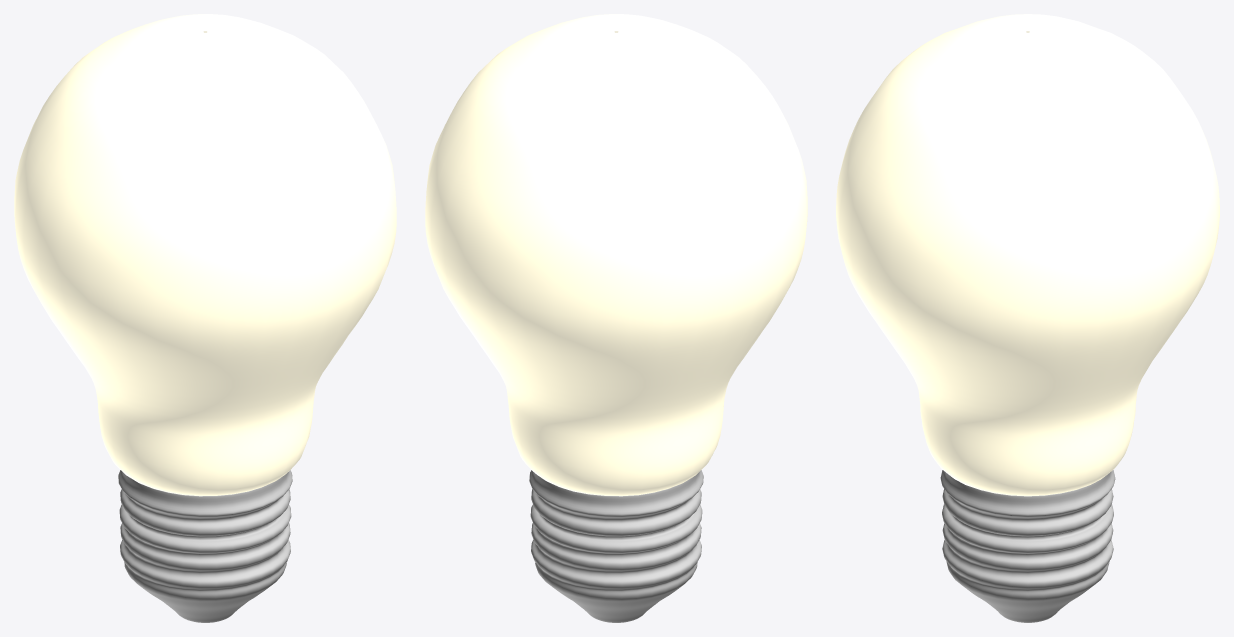
Rendered from light-transformed.glb.
3 renders of one model, left to right at view 1: azimuth 30°, elevation 25°; view 2: azimuth 150°, elevation 25°; view 3: azimuth 270°, elevation 25°, orthographic.
Visible parts, largest first — view 1: revolvedSurface9, revolvedSurface10; view 2: revolvedSurface9, revolvedSurface10; view 3: revolvedSurface9, revolvedSurface10.
Part boxes in pixels (bbox=[...]): revolvedSurface9: bbox=[14, 14, 396, 496]; revolvedSurface10: bbox=[118, 470, 292, 622]; revolvedSurface9: bbox=[425, 14, 807, 496]; revolvedSurface10: bbox=[529, 470, 703, 622]; revolvedSurface9: bbox=[836, 14, 1219, 496]; revolvedSurface10: bbox=[940, 470, 1115, 622].
Size of the model in its own units: 16.94 by 28.34 by 16.94.
